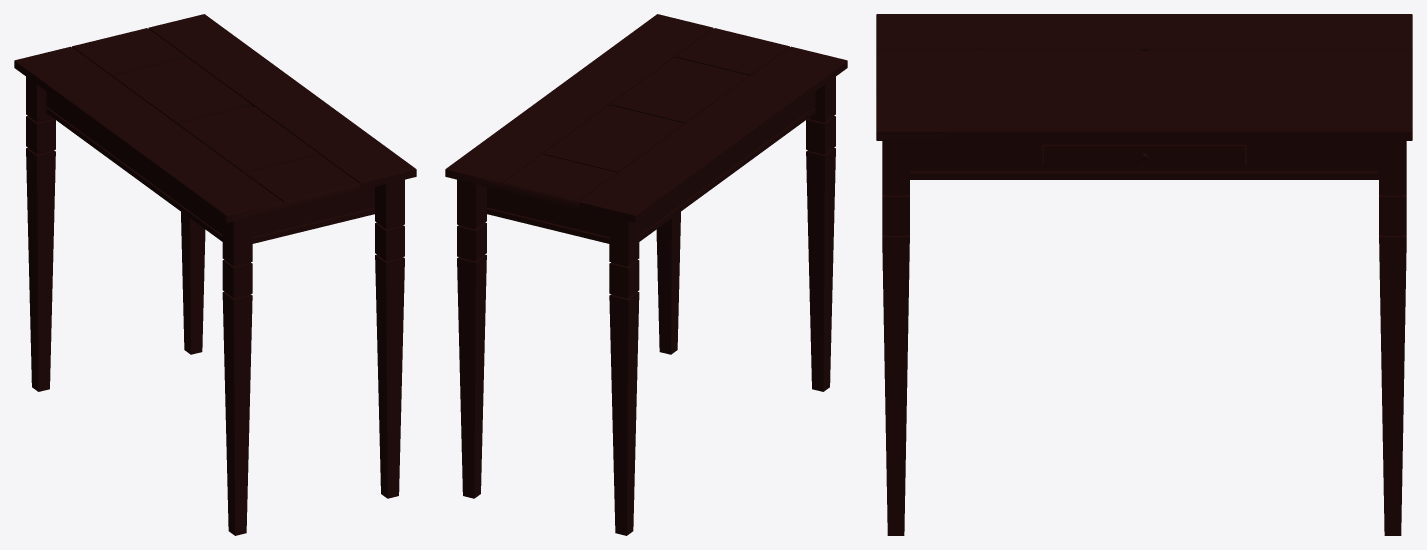
The model's file is table.fbx.
3 views of the same model, side by side, from view 1: azimuth 30°, elevation 25°; view 2: azimuth 150°, elevation 25°; view 3: azimuth 270°, elevation 25° (orthographic). The views are drawn at different scales.
Parts seen in each view (by area): view 1: Case; view 2: Case; view 3: Case, Case.002.
Part boxes in pixels (x1,y1,x2,y2): Case: (14, 14, 416, 535); Case: (445, 14, 847, 535); Case: (876, 14, 1412, 535); Case.002: (1044, 144, 1244, 167).
Size of the model in its own units: 50 by 82 by 96.46.
